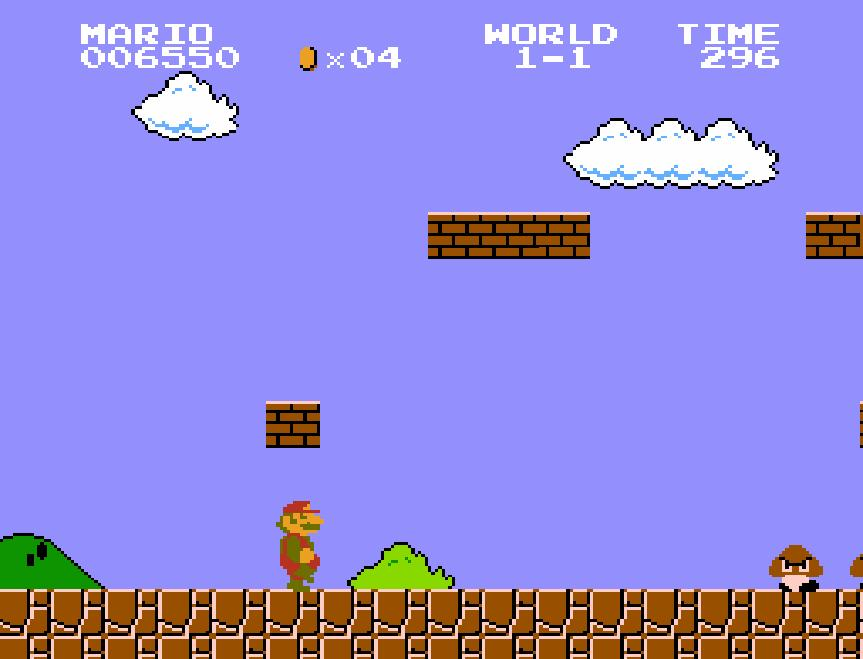big_mario: (270, 496, 328, 594)
